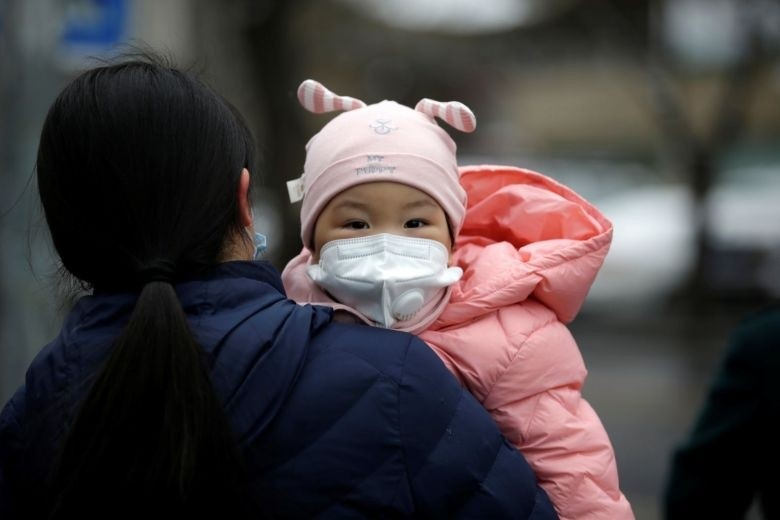face_with_mask: (295, 102, 465, 335)
